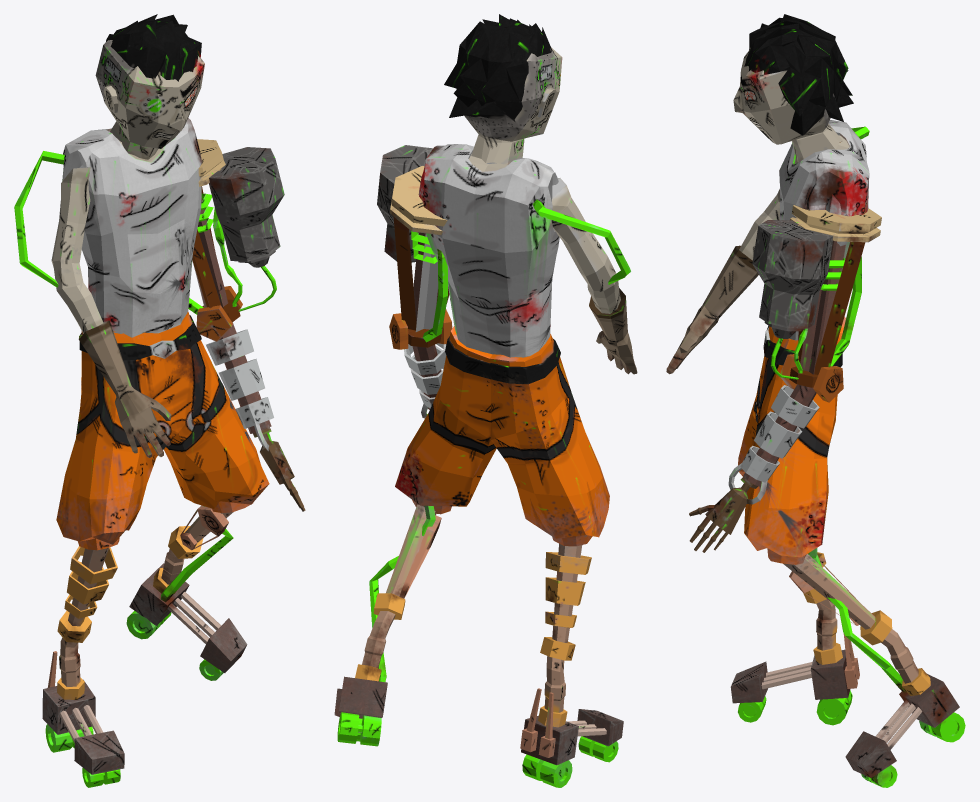
File: CyborgFINALAnimation_000171.obj
3 views of the same model, side by side, from view 1: azimuth 30°, elevation 25°; view 2: azimuth 150°, elevation 25°; view 3: azimuth 270°, elevation 25° (orthographic).
Visible parts, largest first — view 1: CyborgMesh_Cube.002; view 2: CyborgMesh_Cube.002; view 3: CyborgMesh_Cube.002.
Part boxes in pixels (x1=…): CyborgMesh_Cube.002: x1=14, y1=14, x2=305, y2=787; CyborgMesh_Cube.002: x1=334, y1=14, x2=637, y2=787; CyborgMesh_Cube.002: x1=666, y1=14, x2=965, y2=787.
Size of the model in its own units: 3.57 by 9.67 by 3.59.
